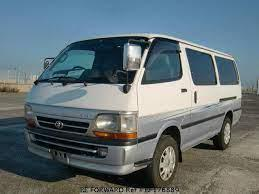Van: (28, 34, 244, 175)
